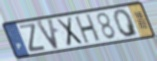8: (96, 11, 117, 40)
H: (74, 12, 102, 45)
Q: (112, 8, 141, 39)
V: (34, 18, 61, 52)
X: (55, 16, 85, 48)
Z: (18, 23, 47, 54)
